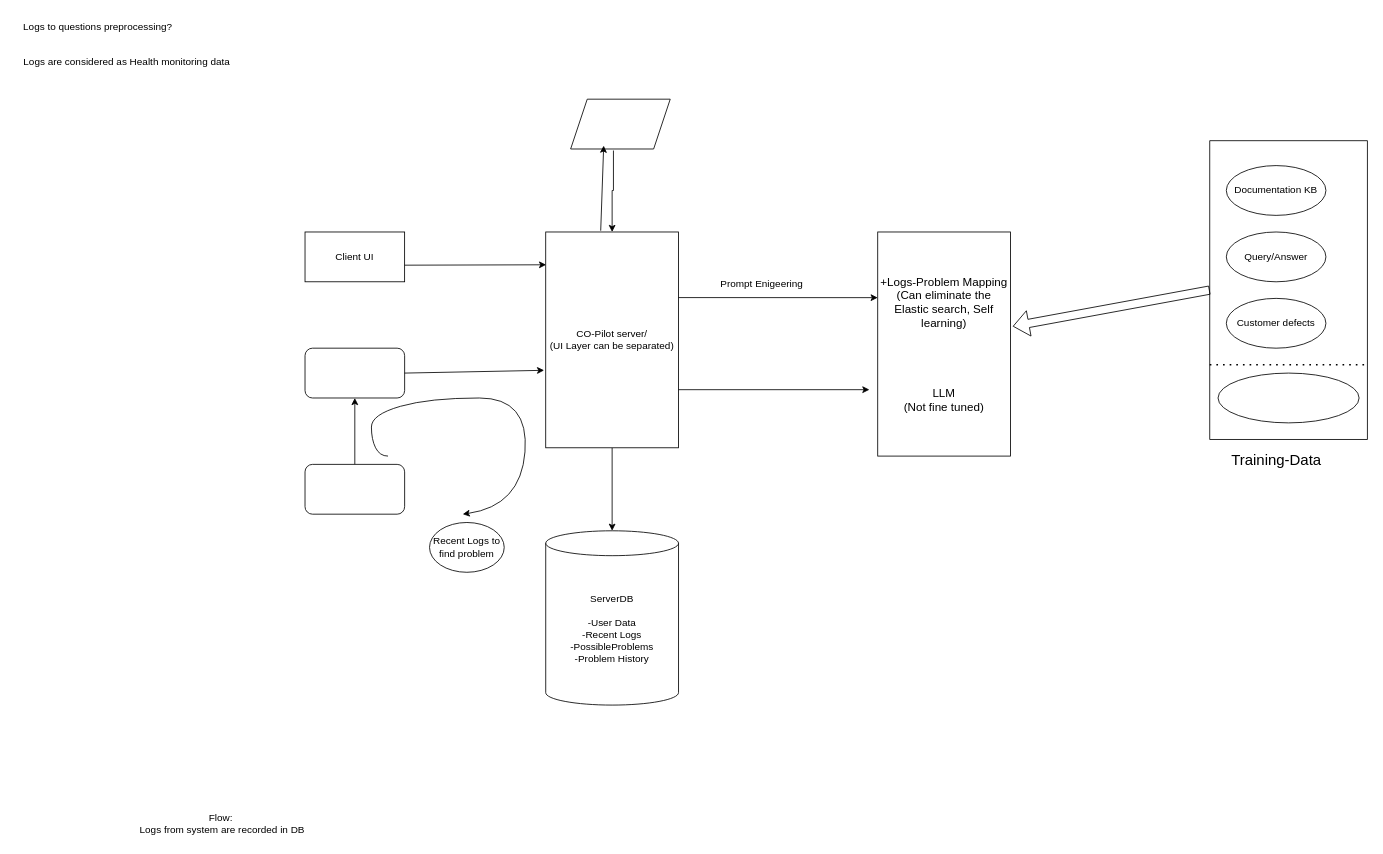
This 1383x854 diagram has some shape labels left out. Here are the shapes that lost their labels. From the top down, the centre of each, then its label:
At point (620, 123): "Cache Session data, Chat history".
At point (354, 372): "Log-Embeddings Generator".
At point (1288, 397): "Categorization of Problems, Logs to Problem mapping".
At point (354, 489): "Log-Reading Script".
